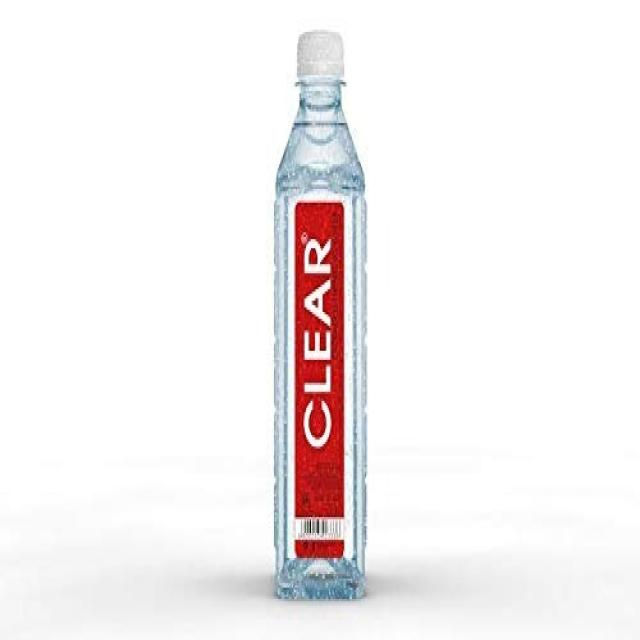bottle: (260, 0, 407, 633)
